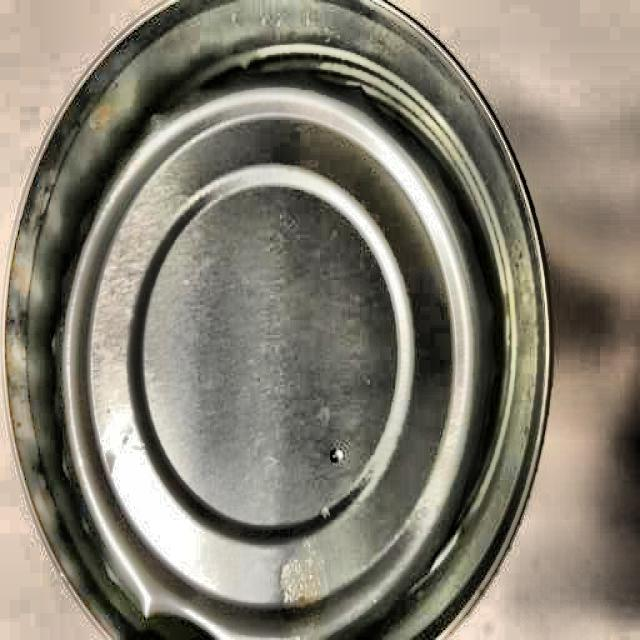metal: (4, 6, 559, 640)
